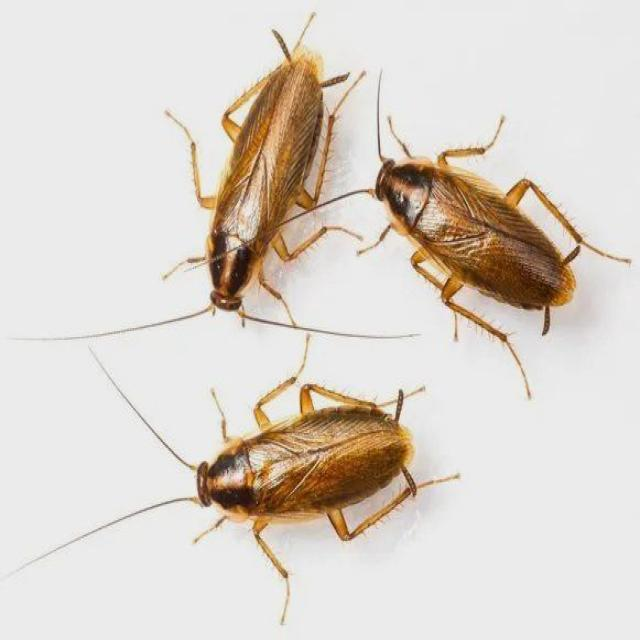Cockroach: (359, 74, 625, 387), (141, 361, 455, 606), (154, 11, 355, 357)
